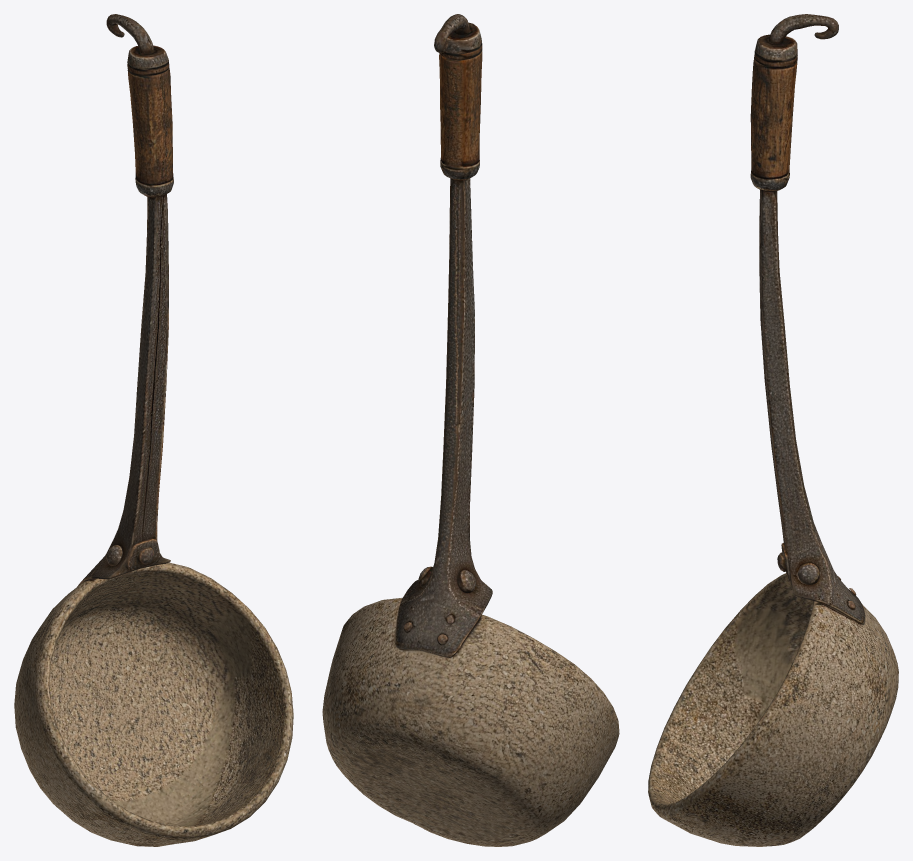
Rendered from canteen-ladle.glb.
The picture shows the model from 3 angles, left to right: view 1: azimuth 30°, elevation 25°; view 2: azimuth 150°, elevation 25°; view 3: azimuth 270°, elevation 25°; orthographic projection. The views are drawn at different scales.
Parts seen in each view (by area): view 1: SM_BT_CanteenLadle; view 2: SM_BT_CanteenLadle; view 3: SM_BT_CanteenLadle.
Boxes of the visible parts, bbox=[...] form: SM_BT_CanteenLadle: bbox=[14, 14, 293, 846]; SM_BT_CanteenLadle: bbox=[322, 14, 619, 846]; SM_BT_CanteenLadle: bbox=[648, 14, 898, 846].
Size of the model in its own units: 0.2252 by 0.7 by 0.194.
Materials: 1 (1 with a texture image).
